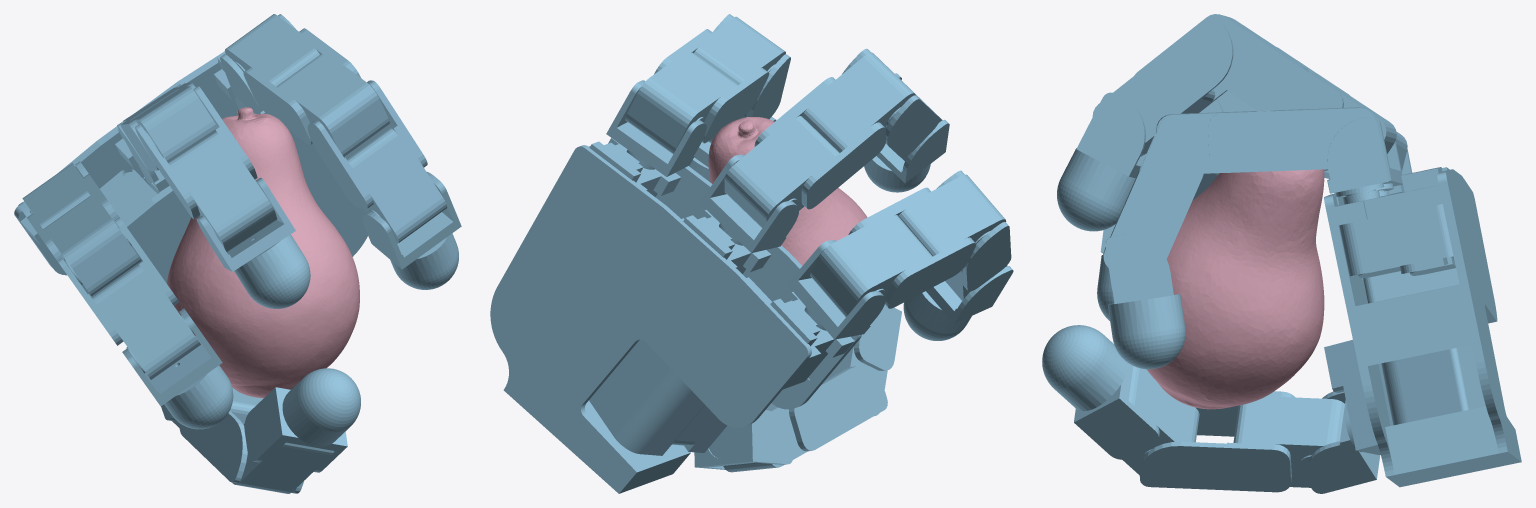
The picture shows the model from 3 angles, left to right: view 1: azimuth 30°, elevation 25°; view 2: azimuth 150°, elevation 25°; view 3: azimuth 270°, elevation 25°; orthographic projection. The views are drawn at different scales.
Parts seen in each view (by area): view 1: world, pear.stl; view 2: world, pear.stl; view 3: world, pear.stl.
Part boxes in pixels (<box>): world: <box>14,14,461,493</box>; pear.stl: <box>167,107,359,398</box>; world: <box>490,14,1013,493</box>; pear.stl: <box>708,117,867,265</box>; world: <box>1042,14,1521,493</box>; pear.stl: <box>1146,169,1324,409</box>.
Size of the model in its own units: 0.1583 by 0.1572 by 0.1566.
